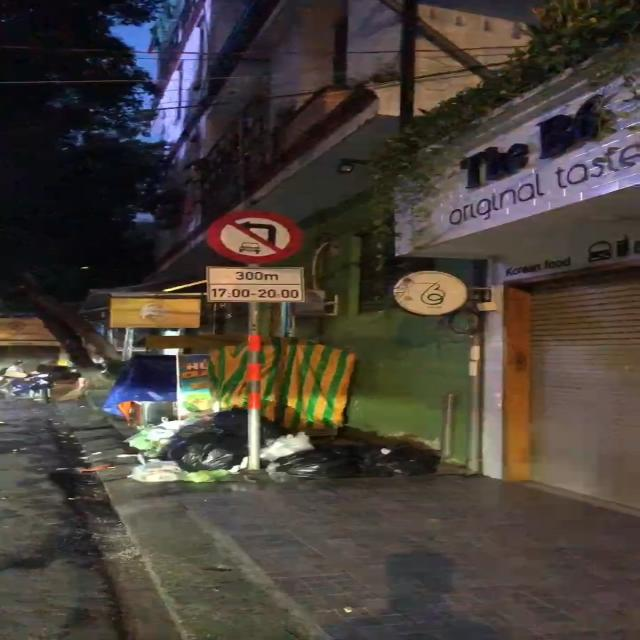Bien bao cam xe o to re trai: (194, 209, 304, 265)
